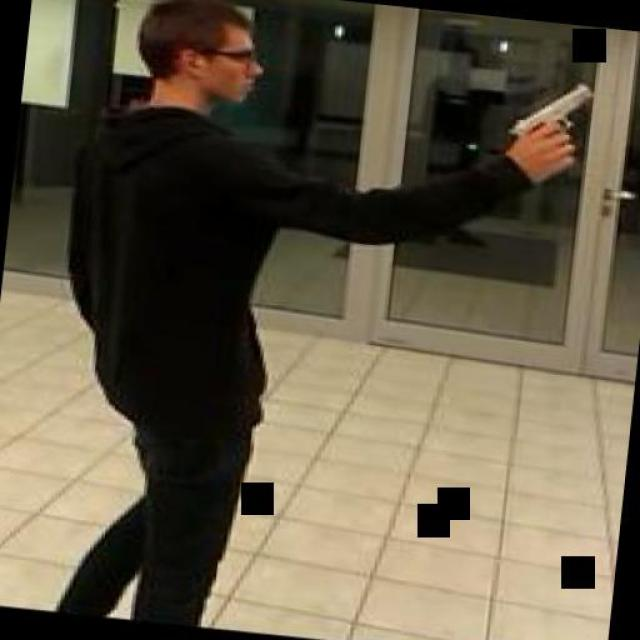gun: (496, 72, 596, 168)
